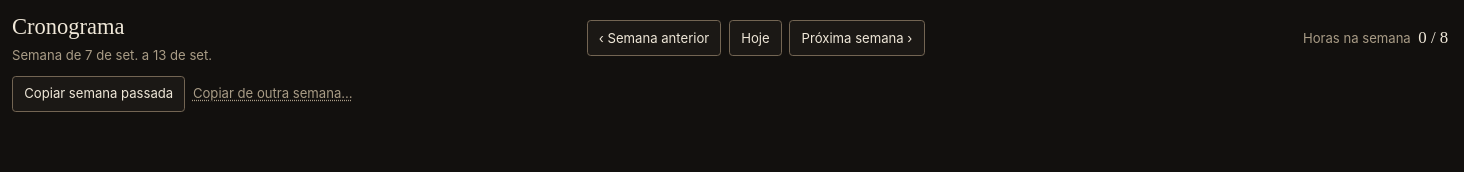
it: CabecalhoDeSemana — semana modelo › erro ao verificar a semana passada mostra alerta local e não abre a confirmação
The width and height of the screenshot is (1464, 172).
Click the button "Copiar semana passada": (99, 94) [12, 76, 185, 112]
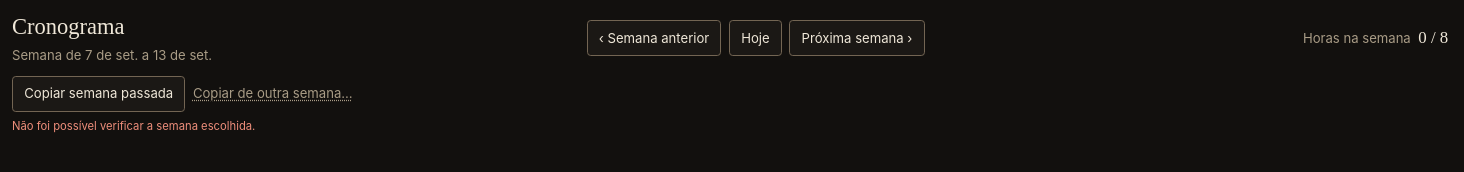
Check: the message reads "Não foi possível verificar a semana escolhida.", box [12, 119, 255, 133]
